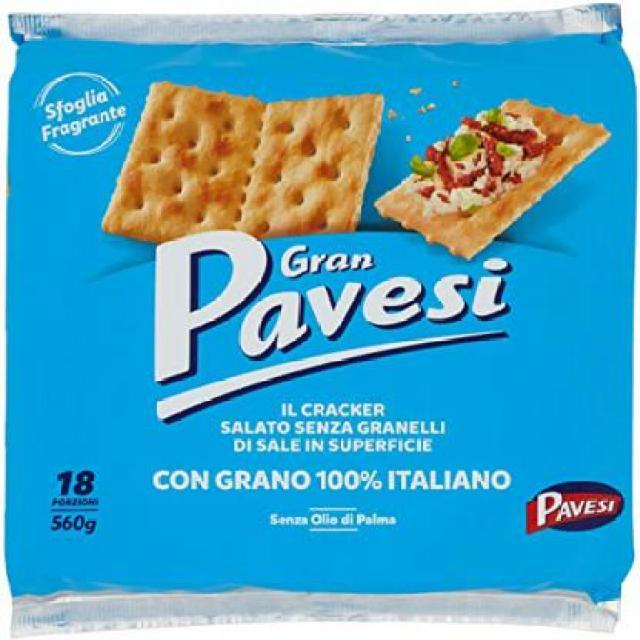Cracker: (6, 23, 632, 614)
